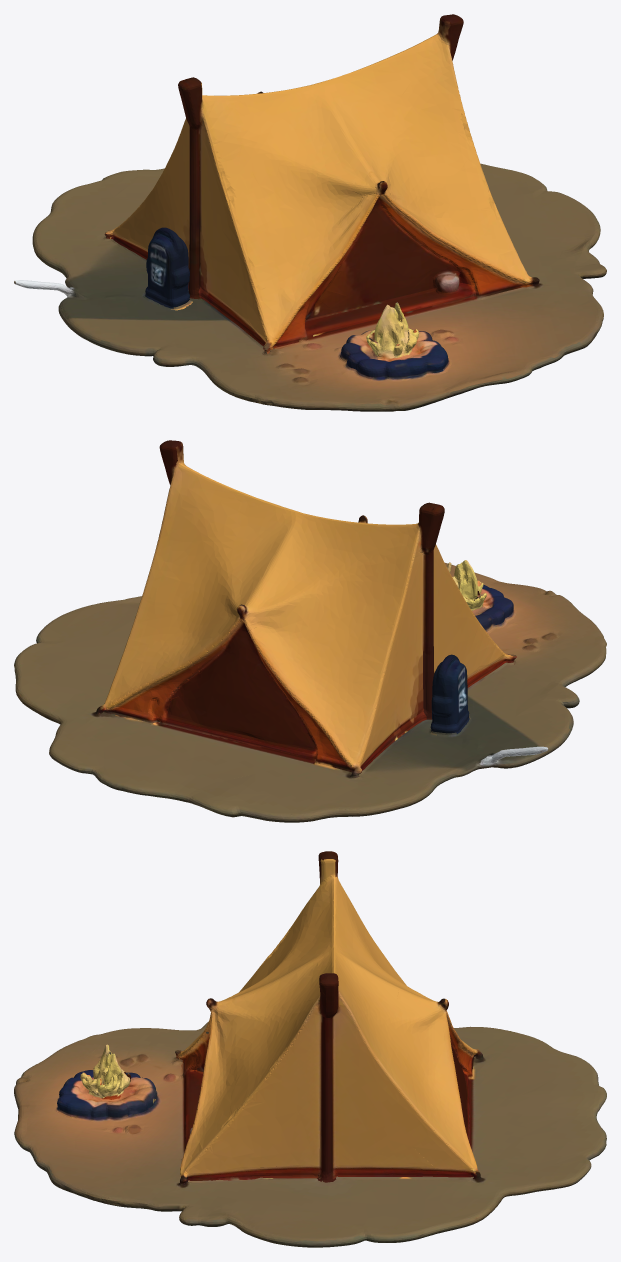
File: camping_tent_bonfire_set.glb
3 renders of one model, top to bottom at view 1: azimuth 30°, elevation 25°; view 2: azimuth 150°, elevation 25°; view 3: azimuth 270°, elevation 25°, orthographic. The views are drawn at different scales.
Parts seen in each view (by area): view 1: tmpr83snti4.ply; view 2: tmpr83snti4.ply; view 3: tmpr83snti4.ply.
Boxes of the visible parts, x1,y1,x2,y2 form: tmpr83snti4.ply: (14,14,606,411); tmpr83snti4.ply: (14,440,606,822); tmpr83snti4.ply: (14,851,606,1247).
Bounding box in the file's own units: 1.99 × 0.8007 × 1.99.
1 material, 1 textured.
